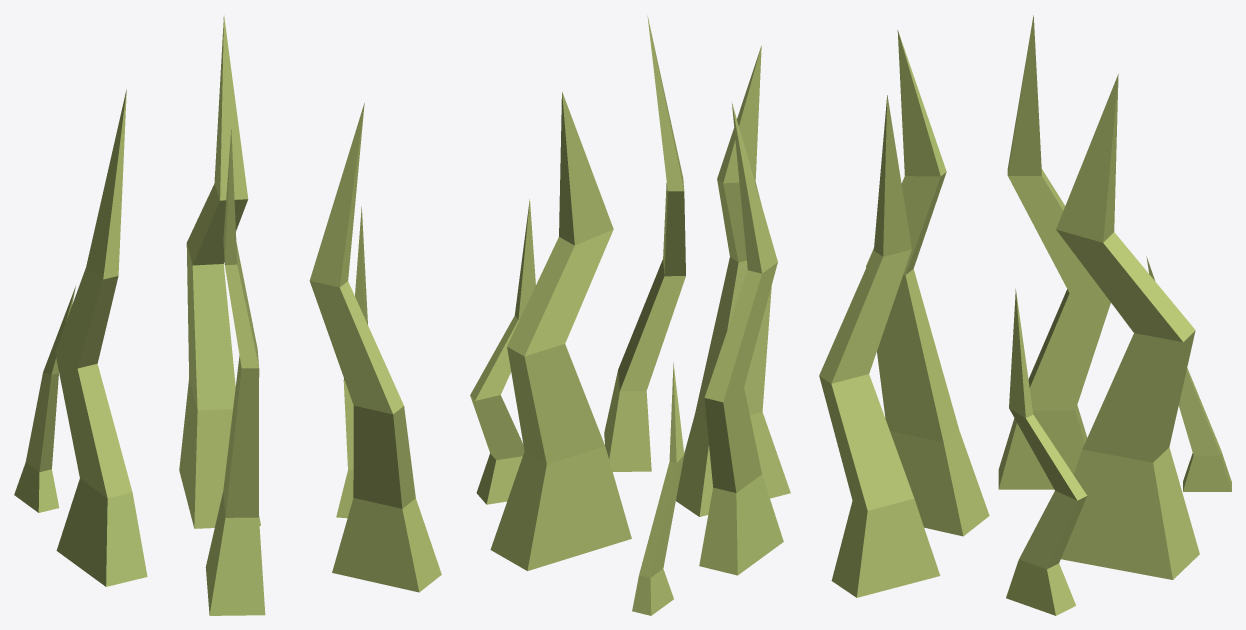
File: quaternius-nature-lite-grass3.glb
The picture shows the model from 3 angles, left to right: view 1: azimuth 30°, elevation 25°; view 2: azimuth 150°, elevation 25°; view 3: azimuth 270°, elevation 25°; orthographic projection. The views are drawn at different scales.
Parts seen in each view (by area): view 1: Grass3; view 2: Grass3; view 3: Grass3.
Part boxes in pixels (x1,y1,x2,y2): Grass3: (14, 15, 441, 615); Grass3: (470, 16, 790, 615); Grass3: (819, 15, 1231, 615).
Size of the model in its own units: 0.2128 by 0.3274 by 0.2537.
